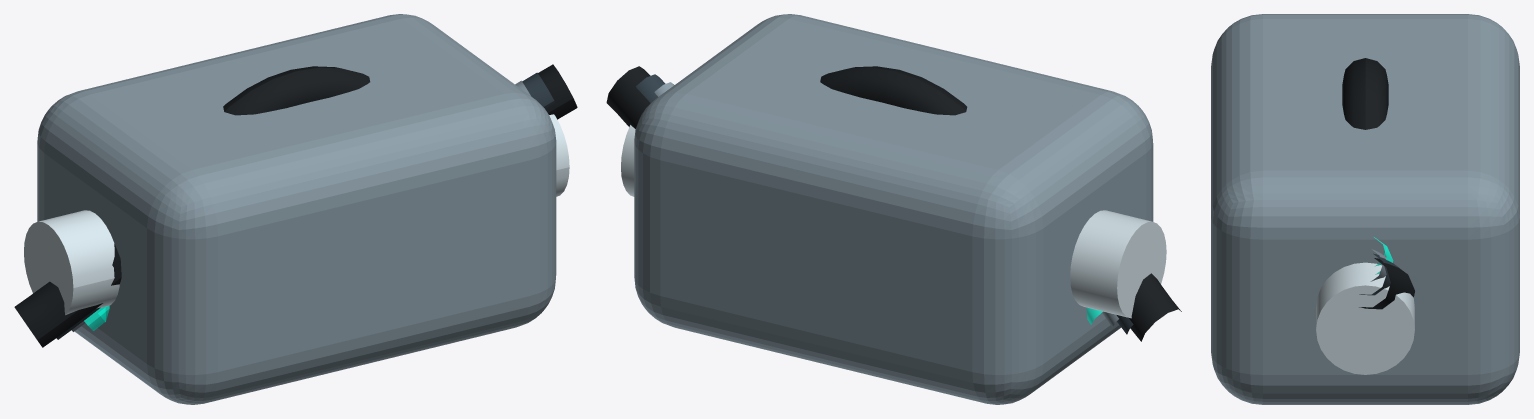
Rendered from g4ed_air_intake.glb.
The picture shows the model from 3 angles, left to right: view 1: azimuth 30°, elevation 25°; view 2: azimuth 150°, elevation 25°; view 3: azimuth 270°, elevation 25°; orthographic projection.
Visible parts, largest first — view 1: asset_mesh__g4ed_195__reference_body, asset_mesh__g4ed_195__reference_axis, asset_mesh__g4ed_206__reference_seal, asset_mesh__g4ed_188__reference_flow_path, asset_mesh__g4ed_208__reference_flow_path; view 2: asset_mesh__g4ed_195__reference_body, asset_mesh__g4ed_195__reference_axis, asset_mesh__g4ed_206__reference_seal, asset_mesh__g4ed_188__reference_flow_path, asset_mesh__g4ed_208__reference_flow_path; view 3: asset_mesh__g4ed_195__reference_body, asset_mesh__g4ed_195__reference_axis, asset_mesh__g4ed_206__reference_seal, asset_mesh__g4ed_188__reference_flow_path.
Part boxes in pixels (x1=…): asset_mesh__g4ed_195__reference_body: x1=37, y1=14, x2=556, y2=404; asset_mesh__g4ed_195__reference_axis: x1=24, y1=114, x2=569, y2=315; asset_mesh__g4ed_206__reference_seal: x1=223, y1=66, x2=370, y2=115; asset_mesh__g4ed_188__reference_flow_path: x1=14, y1=64, x2=577, y2=347; asset_mesh__g4ed_208__reference_flow_path: x1=56, y1=72, x2=555, y2=339; asset_mesh__g4ed_195__reference_body: x1=634, y1=14, x2=1153, y2=404; asset_mesh__g4ed_195__reference_axis: x1=621, y1=125, x2=1166, y2=318; asset_mesh__g4ed_206__reference_seal: x1=820, y1=66, x2=967, y2=115; asset_mesh__g4ed_188__reference_flow_path: x1=606, y1=66, x2=1181, y2=341; asset_mesh__g4ed_208__reference_flow_path: x1=636, y1=74, x2=1133, y2=334; asset_mesh__g4ed_195__reference_body: x1=1211, y1=14, x2=1519, y2=404; asset_mesh__g4ed_195__reference_axis: x1=1316, y1=262, x2=1414, y2=374; asset_mesh__g4ed_206__reference_seal: x1=1342, y1=58, x2=1388, y2=129; asset_mesh__g4ed_188__reference_flow_path: x1=1359, y1=258, x2=1414, y2=309.
Bounding box in the file's own units: 2.23 × 1.05 × 1.07.
